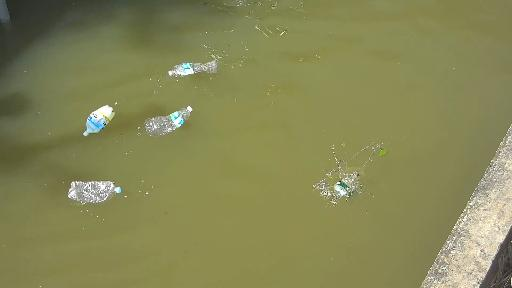leaf: (372, 144, 392, 157)
plastic: (158, 58, 246, 96), (141, 98, 212, 145), (314, 152, 362, 205), (67, 168, 127, 208), (63, 100, 117, 139)
